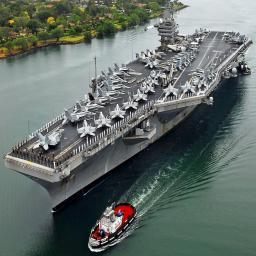Portanaves: (3, 2, 256, 217)
